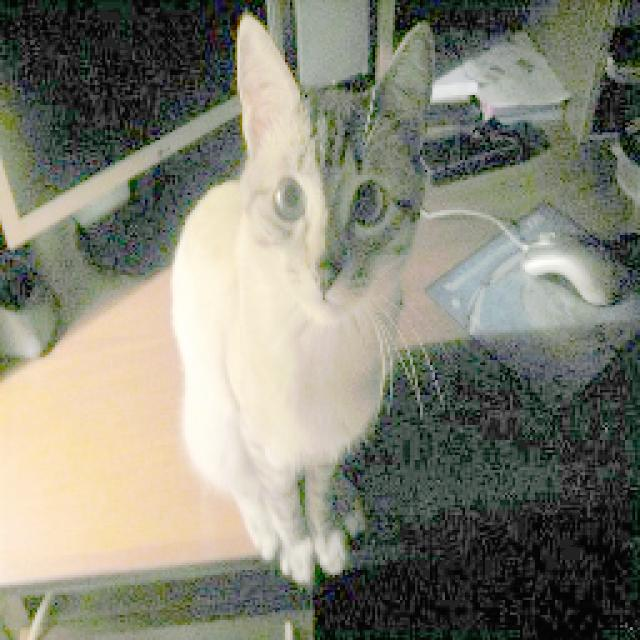cat: (162, 12, 436, 583)
